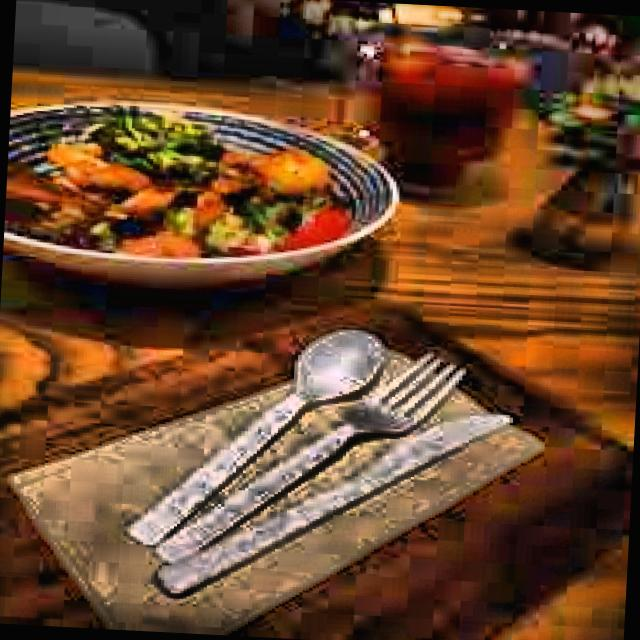plastic utensil: (156, 356, 463, 563), (160, 414, 511, 595), (129, 330, 385, 545)
